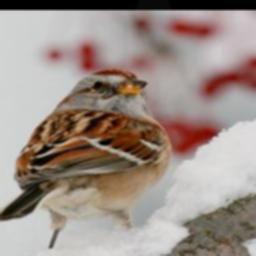Sparrow: (0, 68, 175, 251)
